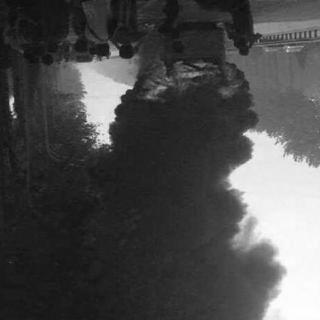Fire: (117, 52, 265, 112)
Smoke: (65, 110, 278, 318)
